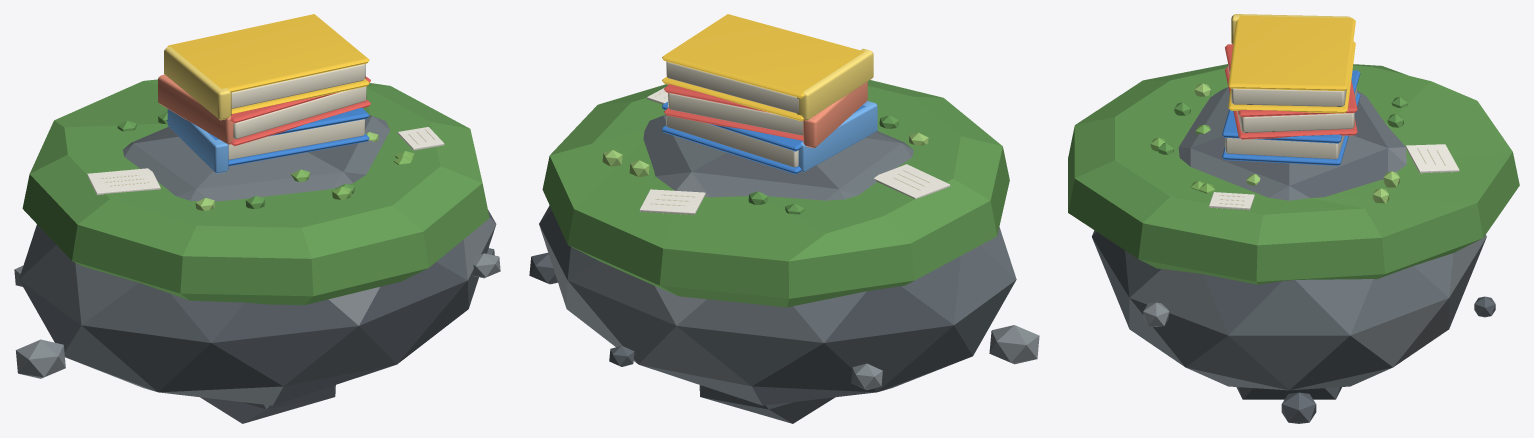
The model's file is Skyland1.fbx.
The picture shows the model from 3 angles, left to right: view 1: azimuth 30°, elevation 25°; view 2: azimuth 150°, elevation 25°; view 3: azimuth 270°, elevation 25°; orthographic projection. The views are drawn at different scales.
Visible parts, largest first — view 1: Base de terra, Rocha principal facetada, Livro amarelo - lombada, Livro vermelho - paginas, Livro azul - capa superior, Ponta inferior da ilha, Fragmento flutuante 01, Tufo de grama.017, Folha solta A, Folha pequena, Fragmento flutuante 03; view 2: Base de terra, Rocha principal facetada, Livro amarelo - lombada, Livro azul - capa superior, Livro vermelho - paginas, Ponta inferior da ilha, Fragmento flutuante 01, Folha solta A, Tufo de grama.017, Folha solta B, Fragmento flutuante 04, Fragmento flutuante 02; view 3: Base de terra, Rocha principal facetada, Livro amarelo - lombada, Livro azul - capa superior, Livro vermelho - paginas, Tufo de grama.017, Folha solta B, Ponta inferior da ilha, Fragmento flutuante 02, Folha pequena, Fragmento flutuante 03.
Part boxes in pixels (x1,y1,x2,y2): Base de terra: (22, 79, 489, 305); Rocha principal facetada: (19, 115, 496, 405); Livro amarelo - lombada: (164, 14, 369, 120); Livro vermelho - paginas: (158, 74, 370, 146); Livro azul - capa superior: (167, 107, 369, 173); Ponta inferior da ilha: (200, 385, 335, 423); Fragmento flutuante 01: (15, 339, 65, 378); Tufo de grama.017: (117, 112, 414, 210); Folha solta A: (87, 168, 160, 195); Folha pequena: (397, 127, 444, 150); Fragmento flutuante 03: (472, 253, 500, 278); Base de terra: (542, 80, 1009, 307); Rocha principal facetada: (539, 115, 1016, 405); Livro amarelo - lombada: (662, 14, 873, 121); Livro azul - capa superior: (662, 101, 877, 174); Livro vermelho - paginas: (664, 82, 867, 148); Ponta inferior da ilha: (699, 385, 834, 423); Fragmento flutuante 01: (989, 325, 1039, 364); Folha solta A: (874, 164, 950, 198); Tufo de grama.017: (602, 115, 928, 214); Folha solta B: (639, 189, 705, 214); Fragmento flutuante 04: (851, 363, 882, 390); Fragmento flutuante 02: (529, 252, 557, 284); Base de terra: (1068, 64, 1519, 284); Rocha principal facetada: (1092, 87, 1486, 390); Livro amarelo - lombada: (1228, 14, 1355, 113); Livro azul - capa superior: (1222, 70, 1360, 165); Livro vermelho - paginas: (1225, 44, 1357, 139); Tufo de grama.017: (1150, 83, 1407, 203); Folha solta B: (1405, 144, 1459, 173); Ponta inferior da ilha: (1236, 387, 1341, 399); Fragmento flutuante 02: (1281, 392, 1316, 423); Folha pequena: (1209, 192, 1254, 210); Fragmento flutuante 03: (1143, 302, 1169, 326).
Size of the model in its own units: 574 by 408 by 469.
